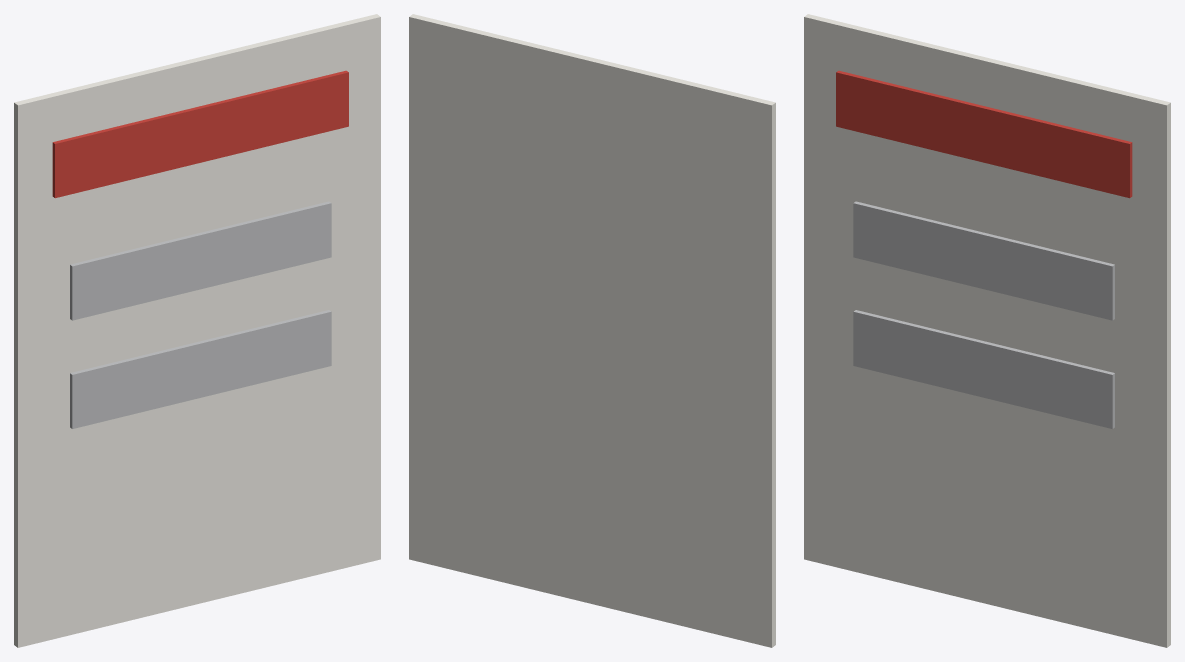
The model's file is ticket_paper.glb.
3 views of the same model, side by side, from view 1: azimuth 30°, elevation 25°; view 2: azimuth 150°, elevation 25°; view 3: azimuth 330°, elevation 25° (orthographic).
Parts seen in each view (by area): view 1: ticket_paper; view 2: ticket_paper; view 3: ticket_paper.
Part boxes in pixels (<box>): ticket_paper: <box>14,14,380,647</box>; ticket_paper: <box>409,14,775,647</box>; ticket_paper: <box>804,14,1170,647</box>.
Size of the model in its own units: 0.21 by 0.3 by 0.0065.
1 material, 1 textured.
